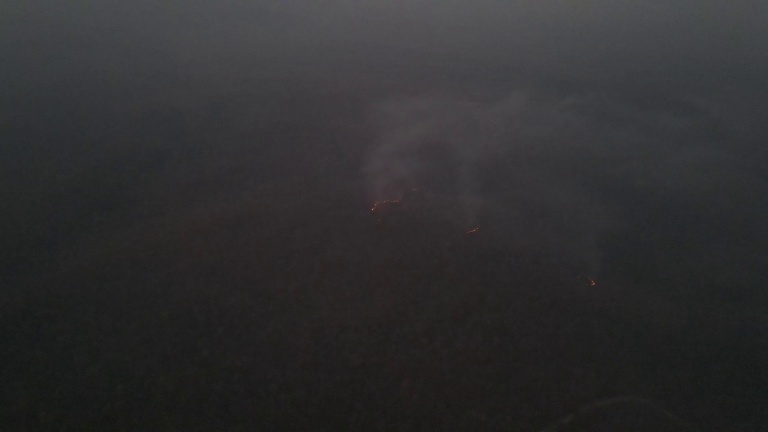fire: (460, 218, 481, 235), (383, 195, 404, 209), (367, 195, 380, 214), (586, 275, 598, 289), (411, 181, 422, 196)
smoke: (359, 92, 513, 216)
